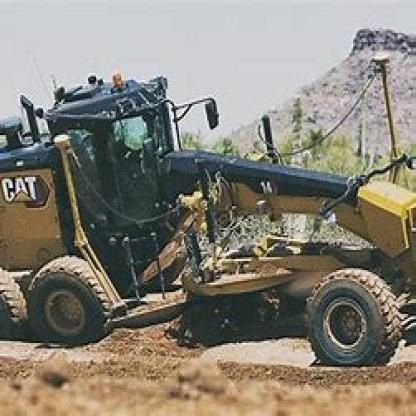bull_dozer/loader/grader: (3, 75, 414, 372)
